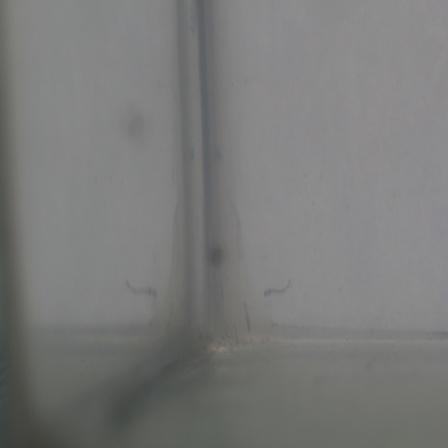Jentik-Nyamuk: (260, 274, 295, 300)
